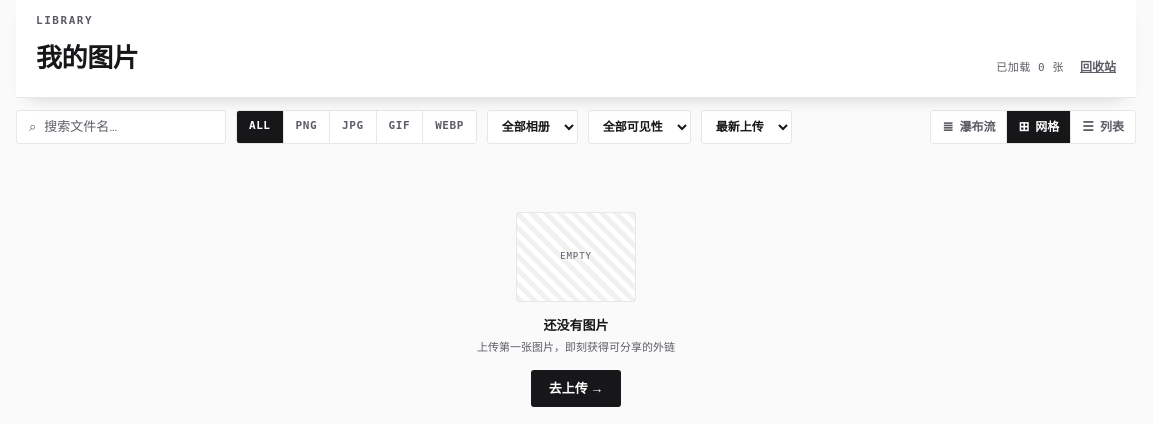
Test: 库空显示 EMPTY 引导，带筛选无结果显示清除筛选
This screenshot has width=1153, height=424.
Expected: the text "还没有图片" is shown, [544,316,608,334]
Click the button "PNG".
click(306, 126)  # box [282,110,329,142]
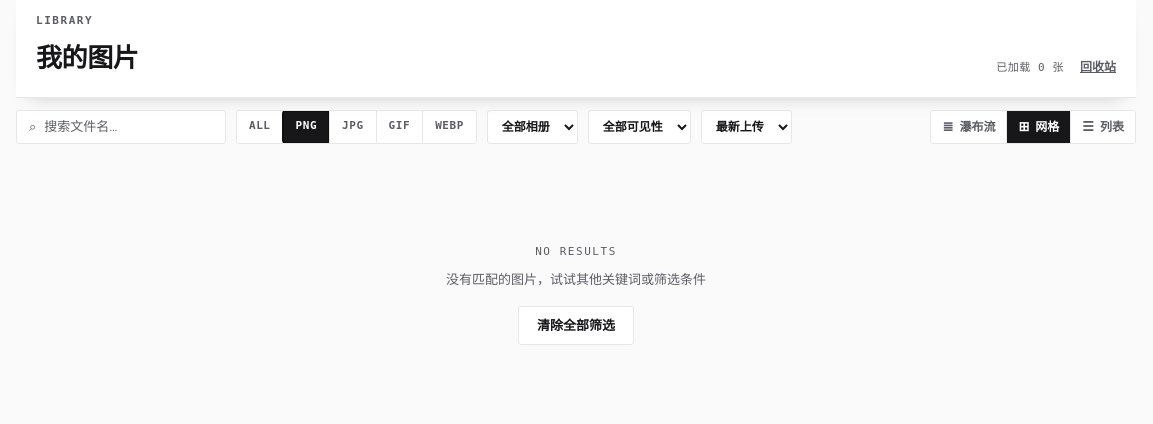
Result: the text "没有匹配的图片，试试其他关键词或筛选条件" is shown at [446,270,706,288]
Click the button "清除全部筛选".
click(576, 325)  # box [518,306,634,345]
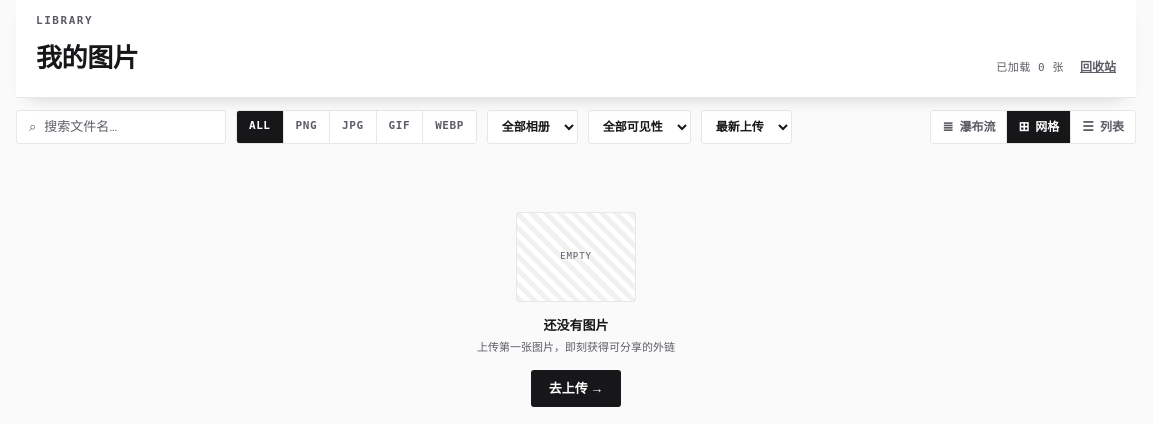
Result: the text "还没有图片" is shown at [544,316,608,334]
